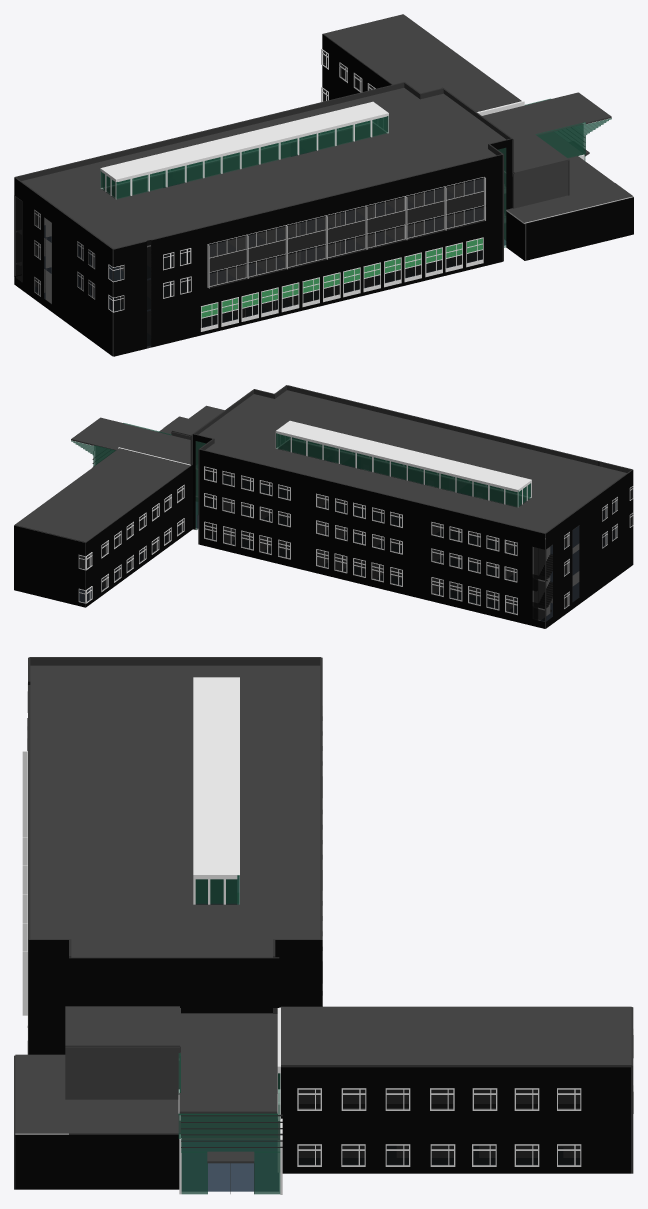
Rendered from NewCSBuilding.FBX.
3 renders of one model, top to bottom at view 1: azimuth 30°, elevation 25°; view 2: azimuth 150°, elevation 25°; view 3: azimuth 270°, elevation 25°, orthographic. The views are drawn at different scales.
Parts seen in each view (by area): view 1: NewCSBuilding; view 2: NewCSBuilding; view 3: NewCSBuilding.
Boxes of the visible parts, x1,y1,x2,y2 form: NewCSBuilding: [14, 14, 633, 356]; NewCSBuilding: [14, 385, 633, 628]; NewCSBuilding: [14, 657, 633, 1194].
Size of what is drawn, in the model's own units: 8060 by 5305 by 1710.
